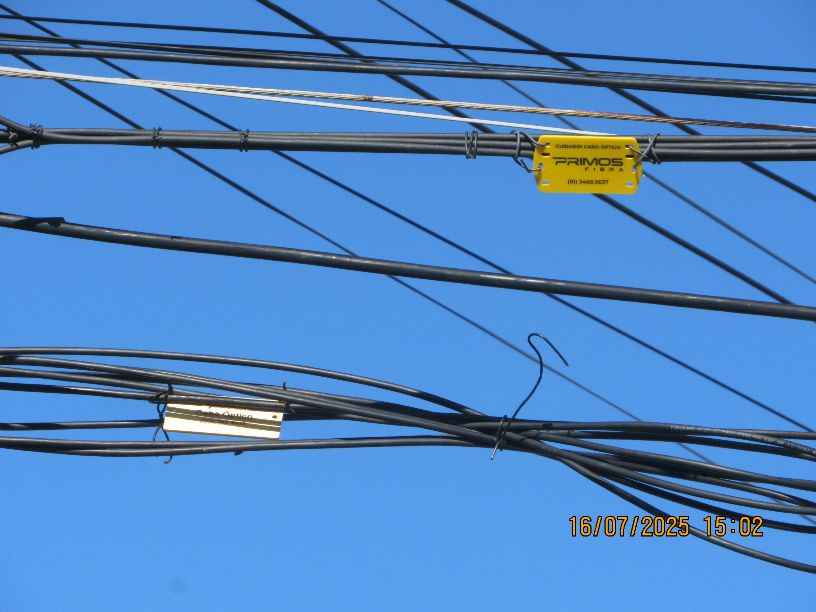fibra_optica: (392, 105, 744, 200), (78, 341, 346, 460)
